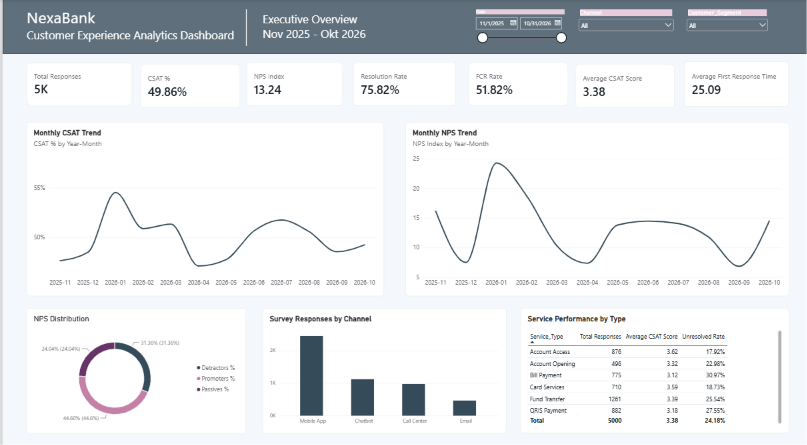

Layout of this report page (visuals, bound fields, positions):
{"tool":"powerbi","page":{"name":"Page 1","canvas":[1920,1080],"ordinal":0},"visuals":[{"type":"shape","box":[0,0,1920,130],"z":0},{"type":"textbox","box":[57.5,17.5,507.5,130],"z":1000},{"type":"textbox","box":[57.5,67.5,507.5,62.5],"z":2000},{"type":"shape","box":[520,25,122.5,87.5],"z":3000},{"type":"textbox","box":[620,27.5,292.5,82.5],"z":4000},{"type":"slicer","fields":{"Values":["DateTable.Date"]},"box":[1121.4,23.9,227.5,92.5],"z":4001},{"type":"slicer","fields":{"Values":["NexaBank_CSAT_NPS_Synthetic_5000.Channel"]},"box":[1369.5,23.9,236.2,82.5],"z":4002},{"type":"slicer","fields":{"Values":["NexaBank_CSAT_NPS_Synthetic_5000.Customer_Segment"]},"box":[1627.2,23.9,203.8,86.2],"z":4003},{"type":"cardVisual","fields":{"Data":["NexaBank_CSAT_NPS_Synthetic_5000.Total Responses"]},"box":[58.1,151.2,252,104.7],"z":4004},{"type":"cardVisual","fields":{"Data":["NexaBank_CSAT_NPS_Synthetic_5000.Average CSAT Score"]},"box":[1368.3,155,236.4,104.7],"z":4005},{"type":"cardVisual","fields":{"Data":["NexaBank_CSAT_NPS_Synthetic_5000.NPS Index"]},"box":[581.4,151.2,228.7,104.7],"z":4006},{"type":"cardVisual","fields":{"Data":["NexaBank_CSAT_NPS_Synthetic_5000.Resolution Rate"]},"box":[837.3,151.2,244.2,104.7],"z":4007},{"type":"cardVisual","fields":{"Data":["NexaBank_CSAT_NPS_Synthetic_5000.FCR Rate"]},"box":[1112.5,151.2,236.4,104.7],"z":4008},{"type":"lineChart","title":"Monthly CSAT Trend","fields":{"Category":["DateTable.Year-Month"],"Y":["NexaBank_CSAT_NPS_Synthetic_5000.CSAT %"]},"box":[58.1,294.6,852.8,414.8],"z":4009},{"type":"lineChart","title":"Monthly NPS Trend","fields":{"Category":["DateTable.Year-Month"],"Y":["NexaBank_CSAT_NPS_Synthetic_5000.NPS Index"]},"box":[961.3,294.6,914.8,414.8],"z":4010},{"type":"donutChart","title":"NPS Distribution","fields":{"Y":["NexaBank_CSAT_NPS_Synthetic_5000.Detractors %","NexaBank_CSAT_NPS_Synthetic_5000.Promoters %","NexaBank_CSAT_NPS_Synthetic_5000.Passives %"]},"box":[56.7,736.7,523.3,298.5],"z":4011},{"type":"clusteredColumnChart","title":"Survey Responses by Channel","fields":{"Category":["NexaBank_CSAT_NPS_Synthetic_5000.Channel"],"Y":["NexaBank_CSAT_NPS_Synthetic_5000.Total Responses"]},"box":[620,736.7,581.4,298.5],"z":4012},{"type":"cardVisual","fields":{"Data":["DateTable.Average First Response Time"]},"box":[1628,147.3,248.1,108.5],"z":4013},{"type":"cardVisual","title":"CSAT Rate","fields":{"Data":["NexaBank_CSAT_NPS_Synthetic_5000.CSAT %"]},"box":[329.5,155,236.4,104.7],"z":4014},{"type":"tableEx","title":"Service Performance by Type","fields":{"Values":["NexaBank_CSAT_NPS_Synthetic_5000.Service_Type","NexaBank_CSAT_NPS_Synthetic_5000.Total Responses","NexaBank_CSAT_NPS_Synthetic_5000.Average CSAT Score","NexaBank_CSAT_NPS_Synthetic_5000.Unresolved Rate"]},"box":[1236,738,640,298],"z":4015}]}

Visuals, with their boxes in screenshot pixels (x1, y1, x2, y2), scaled from the page's 1920x1080 canvas onto the 807x445 screenshot:
shape: box(0, 0, 806, 54)
textbox: box(24, 7, 237, 61)
textbox: box(24, 28, 237, 54)
shape: box(219, 10, 270, 46)
textbox: box(261, 11, 384, 45)
slicer - DateTable.Date: box(471, 10, 567, 48)
slicer - NexaBank_CSAT_NPS_Synthetic_5000.Channel: box(576, 10, 675, 44)
slicer - NexaBank_CSAT_NPS_Synthetic_5000.Customer_Segment: box(684, 10, 770, 45)
cardVisual - NexaBank_CSAT_NPS_Synthetic_5000.Total Responses: box(24, 62, 130, 105)
cardVisual - NexaBank_CSAT_NPS_Synthetic_5000.Average CSAT Score: box(575, 64, 674, 107)
cardVisual - NexaBank_CSAT_NPS_Synthetic_5000.NPS Index: box(244, 62, 340, 105)
cardVisual - NexaBank_CSAT_NPS_Synthetic_5000.Resolution Rate: box(352, 62, 455, 105)
cardVisual - NexaBank_CSAT_NPS_Synthetic_5000.FCR Rate: box(468, 62, 567, 105)
"Monthly CSAT Trend" lineChart: box(24, 121, 383, 292)
"Monthly NPS Trend" lineChart: box(404, 121, 789, 292)
"NPS Distribution" donutChart: box(24, 304, 244, 427)
"Survey Responses by Channel" clusteredColumnChart: box(261, 304, 505, 427)
cardVisual - DateTable.Average First Response Time: box(684, 61, 789, 105)
"CSAT Rate" cardVisual: box(138, 64, 238, 107)
"Service Performance by Type" tableEx: box(520, 304, 789, 427)
